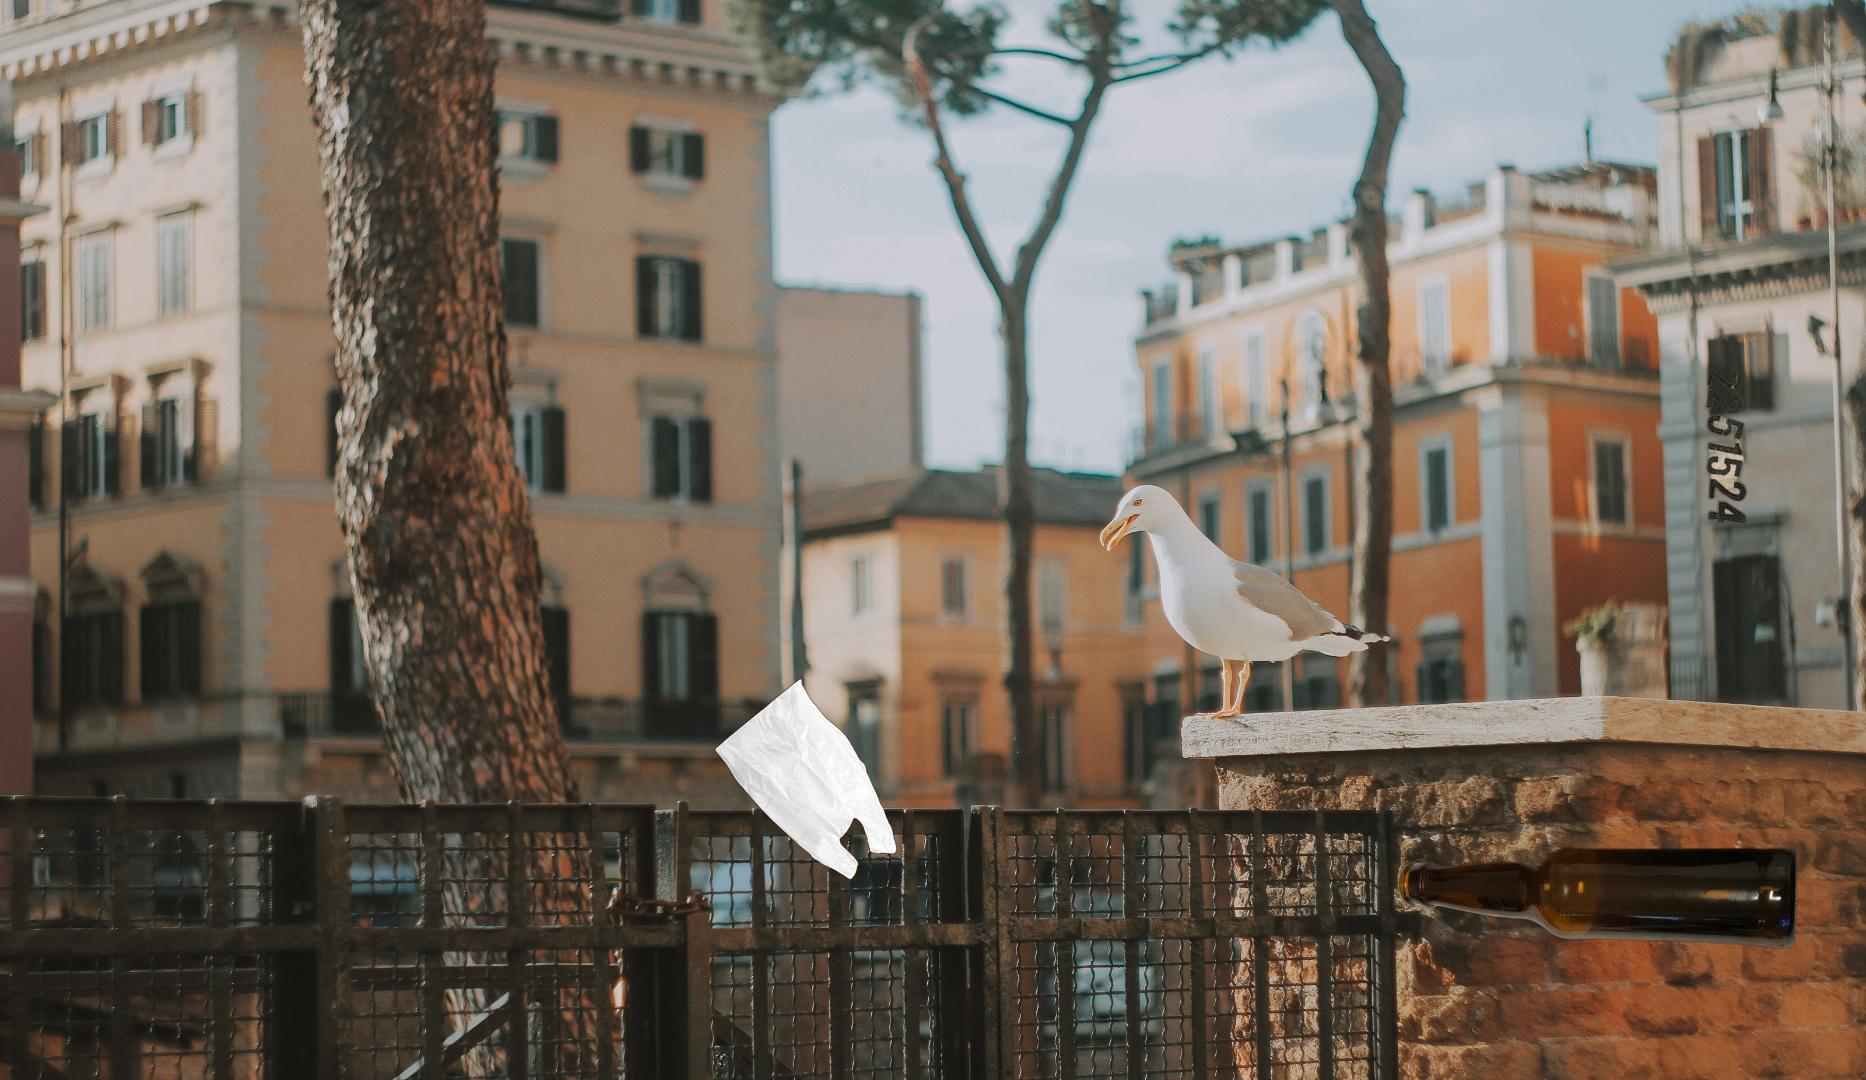glass: (1394, 838, 1800, 951)
plastic-bag: (715, 676, 900, 882)
trashbox-cardboard: (1702, 365, 1752, 525)
